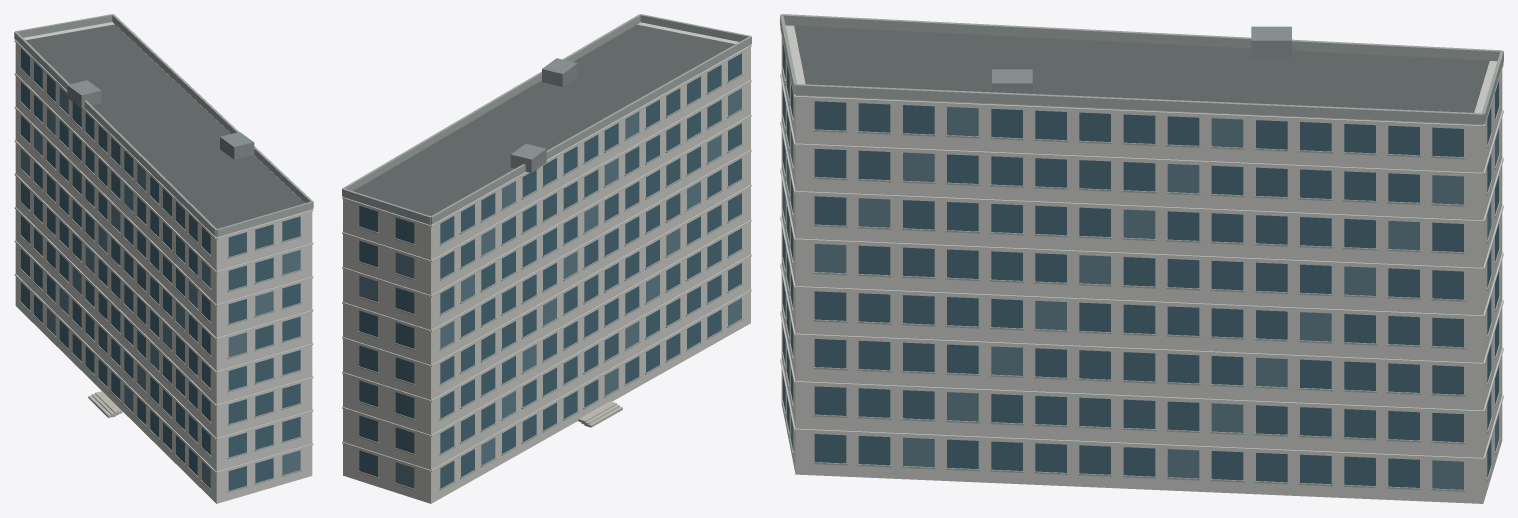
File: 核心区南侧-014.glb
The picture shows the model from 3 angles, left to right: view 1: azimuth 30°, elevation 25°; view 2: azimuth 150°, elevation 25°; view 3: azimuth 270°, elevation 25°; orthographic projection. The views are drawn at different scales.
Visible parts, largest first — view 1: 核心区南侧-014; view 2: 核心区南侧-014; view 3: 核心区南侧-014.
Boxes of the visible parts, box(x1,y1,x2,y2) form: 核心区南侧-014: box(14, 14, 313, 503); 核心区南侧-014: box(342, 14, 751, 503); 核心区南侧-014: box(780, 14, 1503, 503).
Size of the model in its own units: 16.48 by 30.42 by 50.05.
